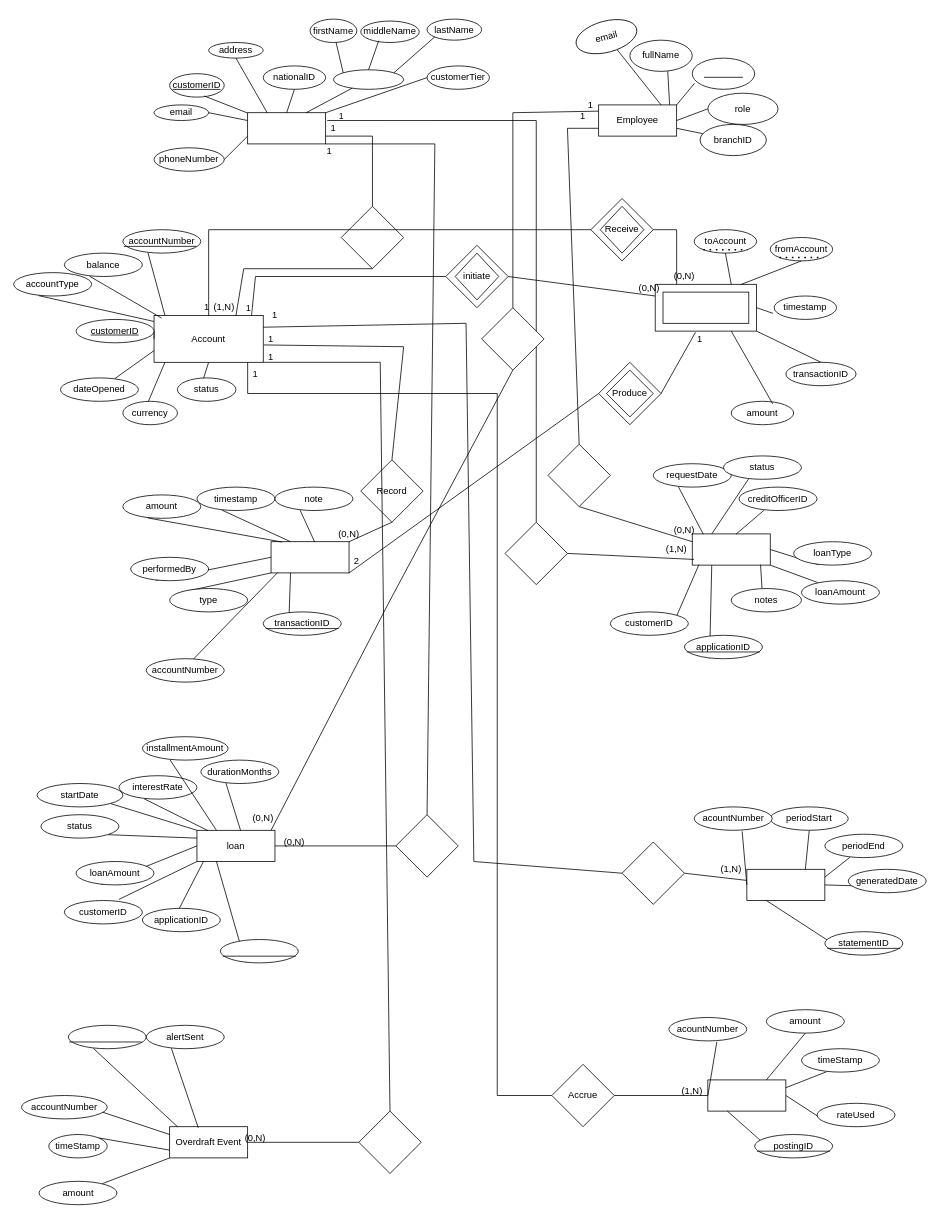
Image size: 940x1219. Some labels were removed from this diagram. The shapes that lost their labels are listed below. From the top down, each one's centre as x and y in pixels, then its label:
At (368,79): "name".
At (723,73): "employeeID".
At (286,128): "Customer".
At (372,237): "Owns".
At (705,307): "Transfer".
At (512,338): "Approve".
At (578,475): "Review".
At (309,557): "Transaction".
At (535,553): "Submits".
At (730,549): "Loan Application".
At (426,845): "Takes".
At (652,872): "Generate".
At (785,885): "Statement".
At (259,951): "loanID".
At (106,1037): "overdraftID".
At (746,1095): "Interest Posting".
At (389,1142): "Trigger".
